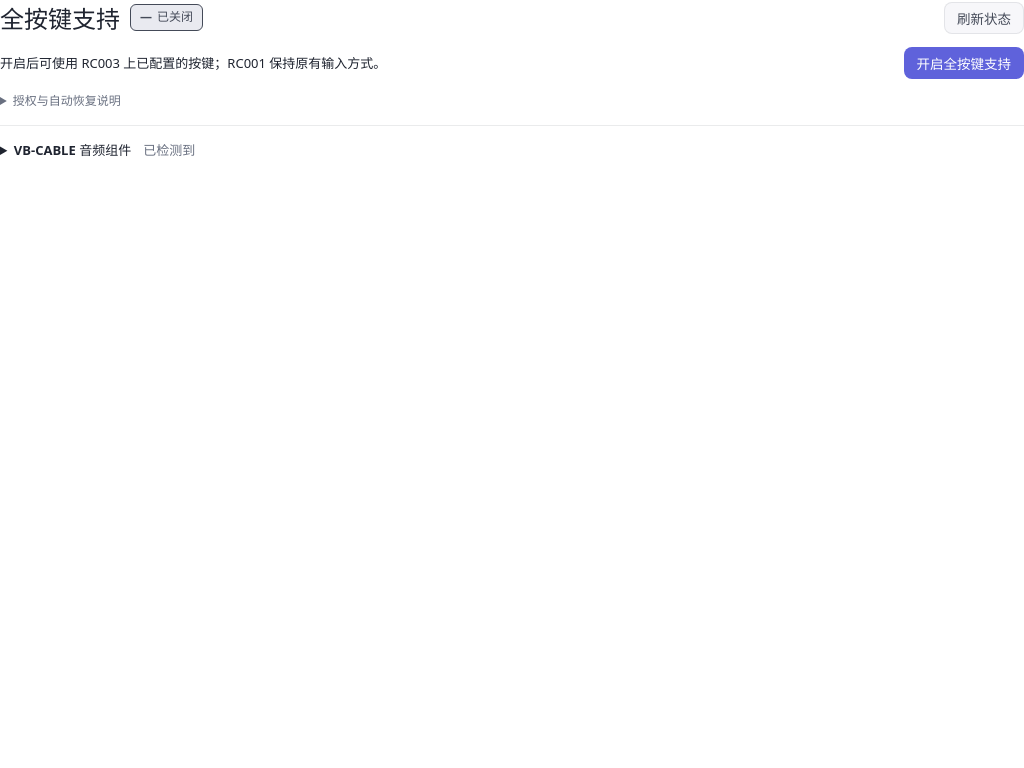
Scenario: unified button support and audio component › preserves disabled state and a visible error when Windows authorization is cancelled
What coordinates should you click on to do the following:
click the button "开启全按键支持"
I would click on:
 (964, 63)
Its box is [904, 47, 1023, 79].
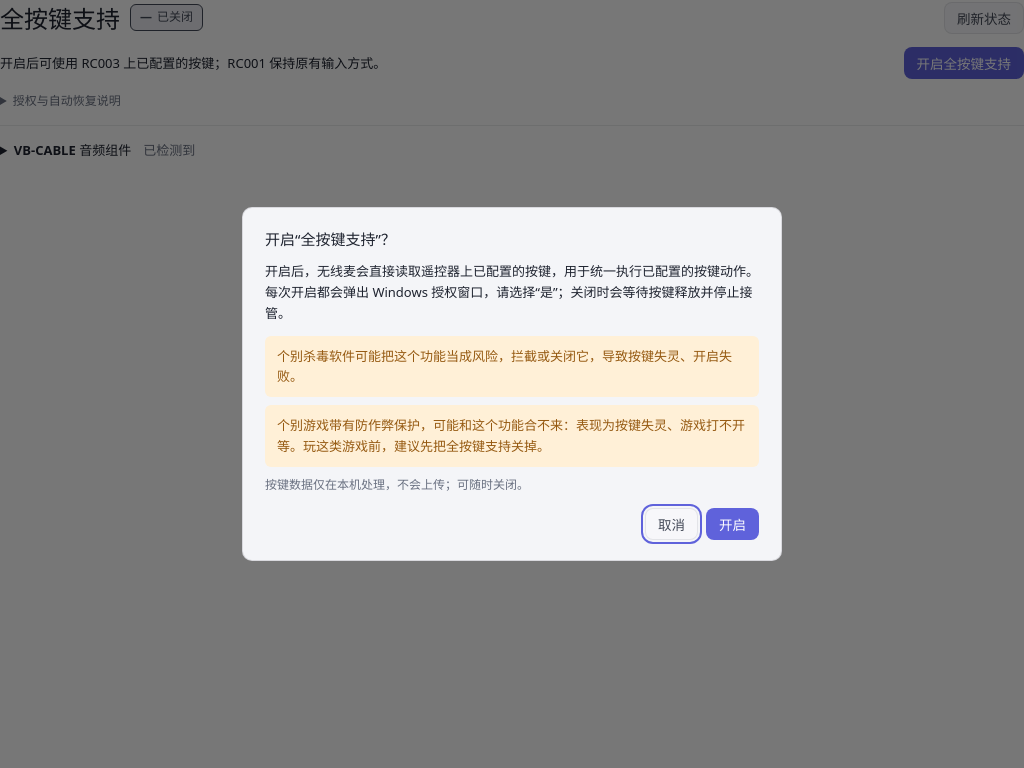
What coordinates should you click on to do the following:
click the button "开启"
I would click on:
 (732, 524)
Its box is [706, 508, 759, 540].
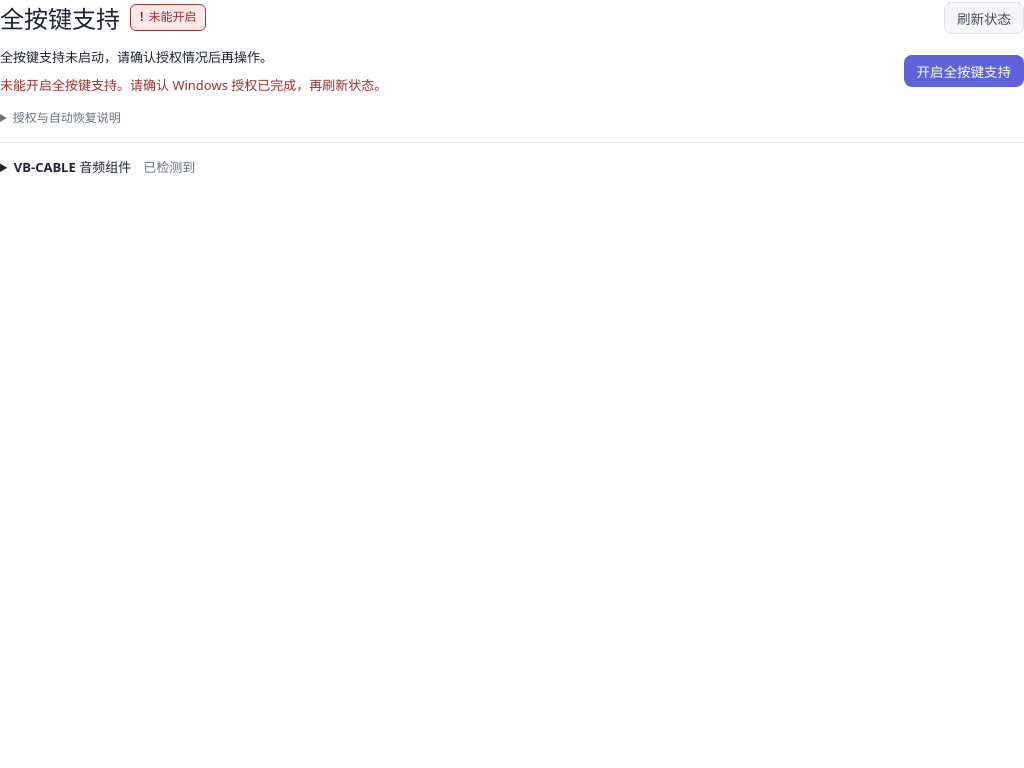
Expected: the message "未能开启全按键支持。请确认 Windows 授权已完成，再刷新状态。" is shown, [0, 76, 387, 94]
Expected: the message "! 未能开启" is shown, [130, 4, 206, 31]
